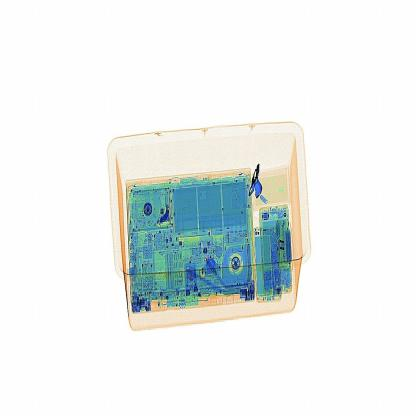wrench: (241, 150, 280, 208)
